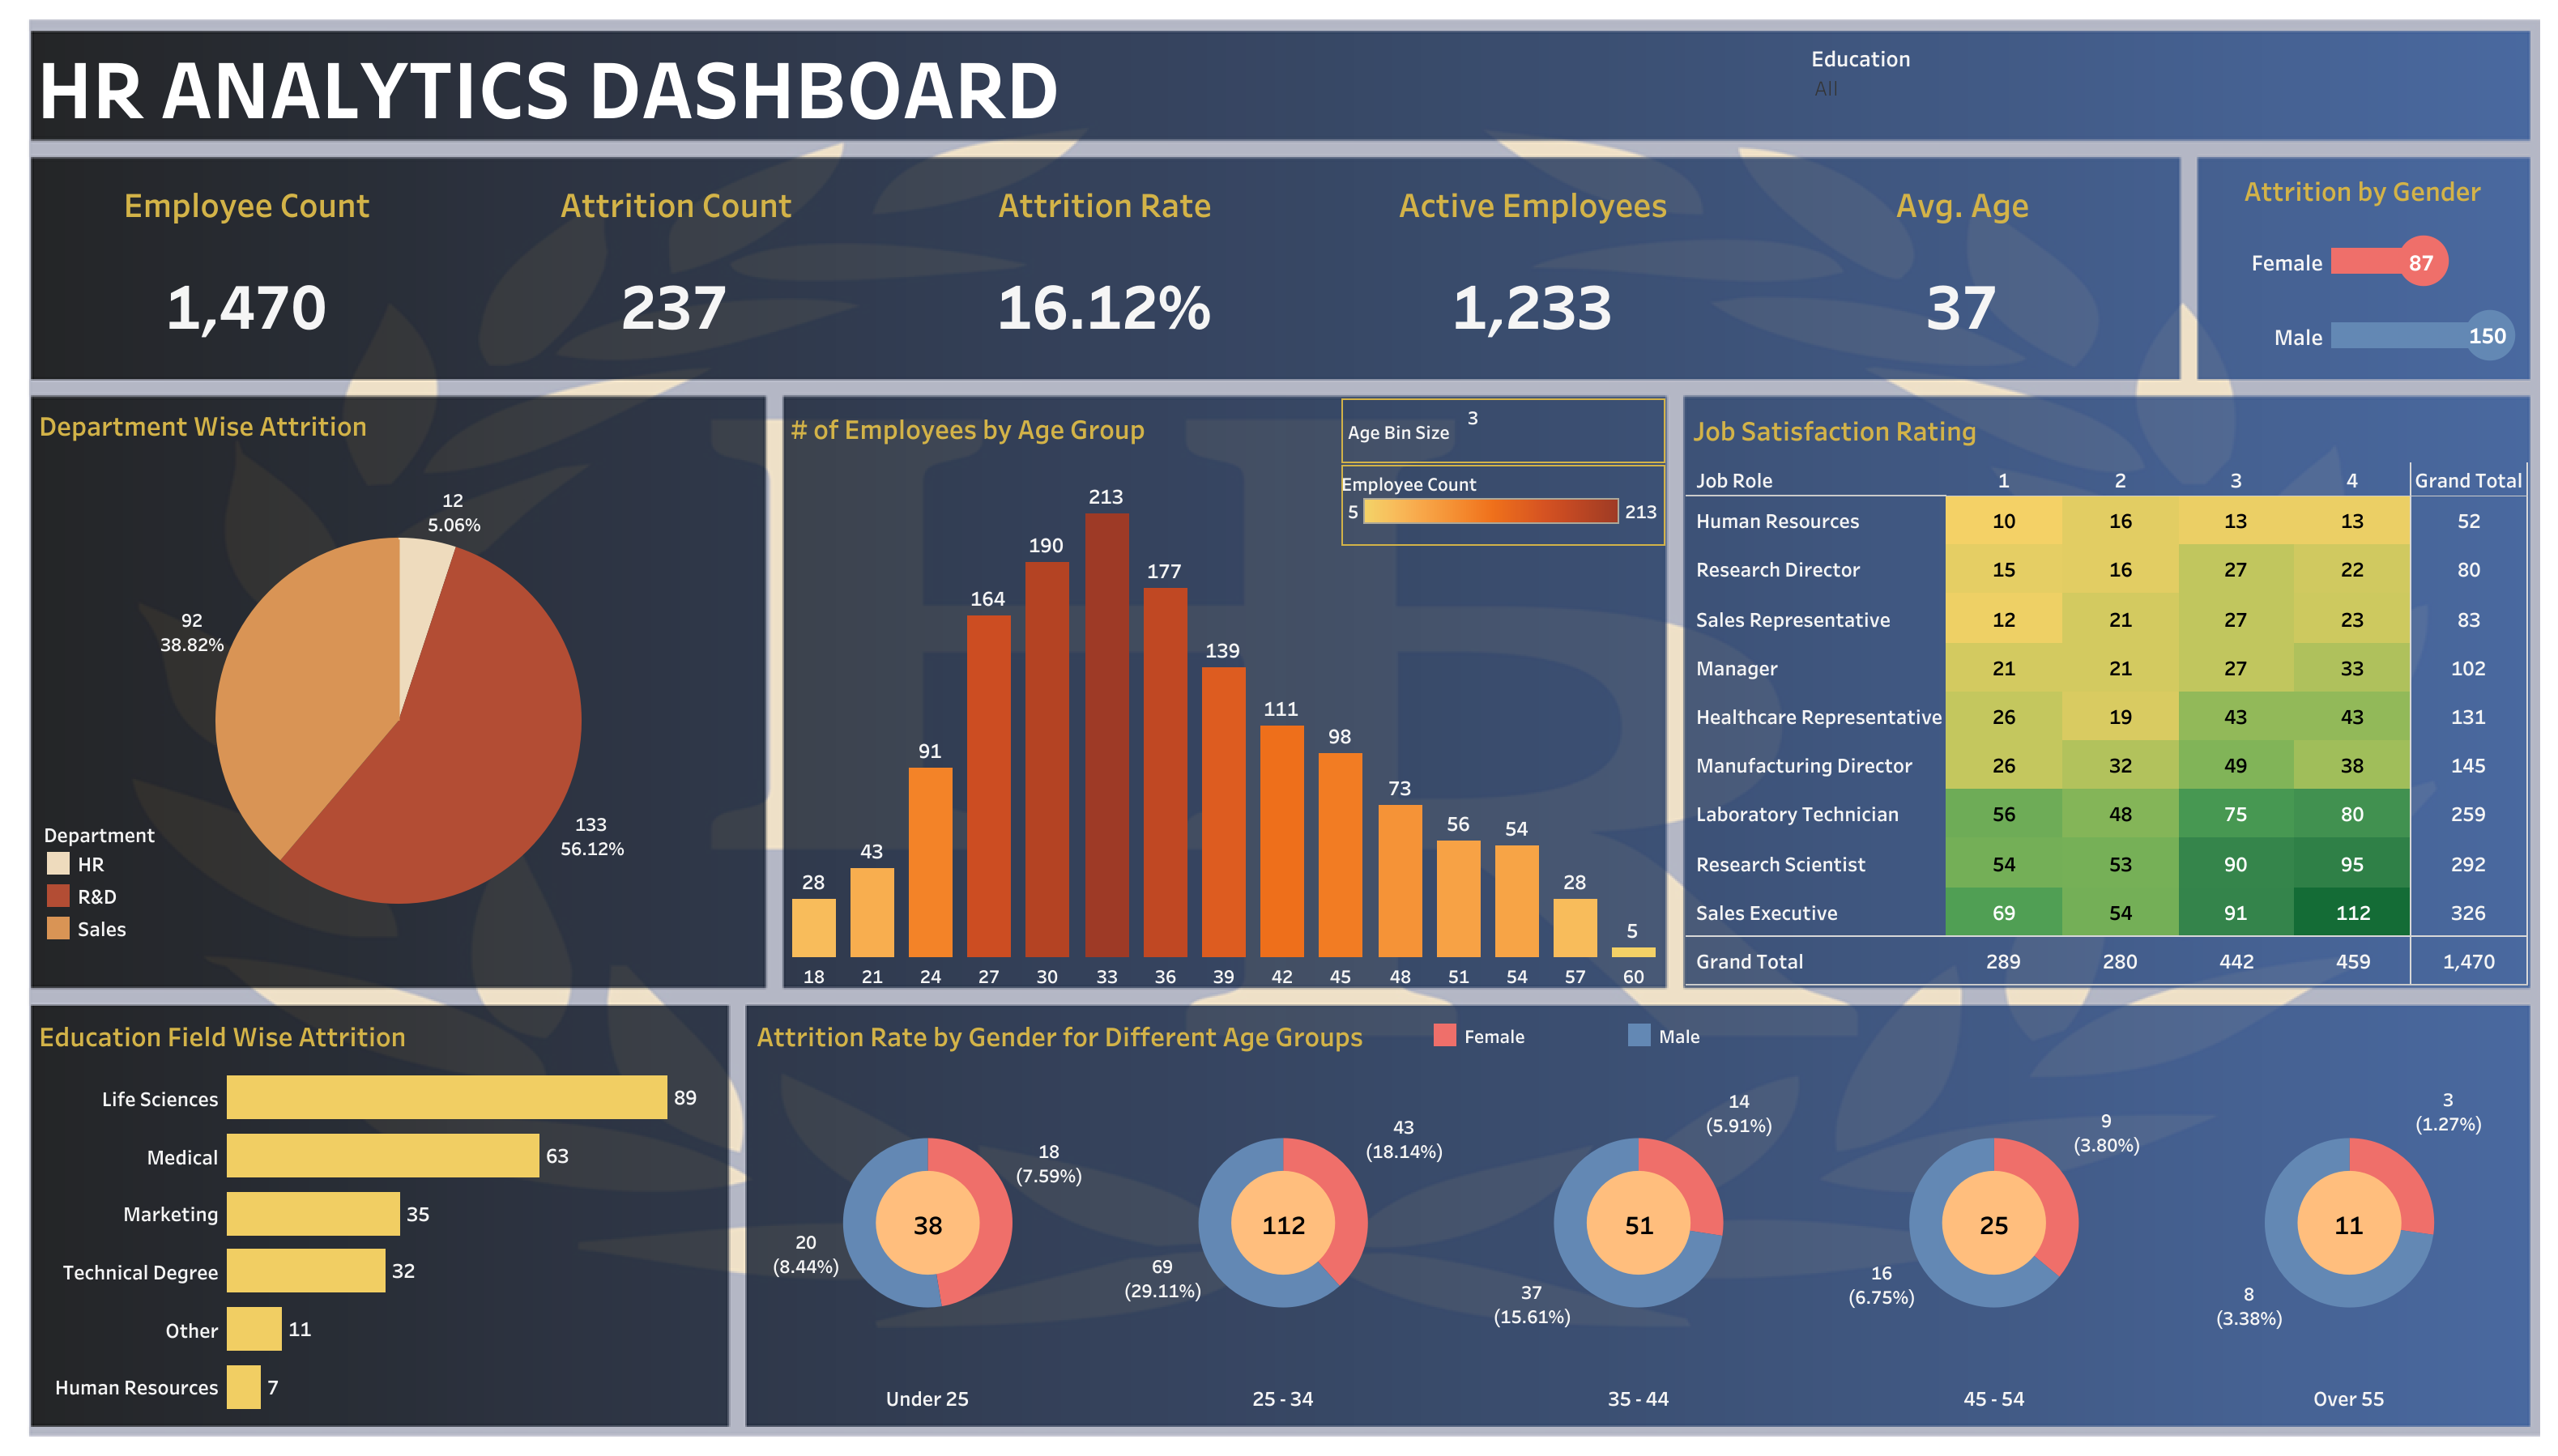

Layout of this report page (visuals, bound fields, positions):
{"tool":"powerbi","page":{"name":"HR Analytics Dashboard","canvas":[1280,720],"ordinal":0},"visuals":[{"type":"card","title":"Overall Employees","fields":{"Values":["Sum(HR data.Employee Count)"]},"box":[8.3,61.5,239.9,99.1],"z":0},{"type":"card","title":"Attrition ","fields":{"Values":["Sum(HR data.Attrition Count)"]},"box":[264.9,61.5,239.9,100.1],"z":1000},{"type":"card","title":"Attrition Rate","fields":{"Values":["HR data.Attrition Rate"]},"box":[520.4,61.5,240.9,99.1],"z":2000},{"type":"card","title":"Active Employees","fields":{"Values":["HR data.Active employees"]},"box":[778,61.5,239.9,100.1],"z":3000},{"type":"card","title":"Average Age","fields":{"Values":["Avg(HR data.Age)"]},"box":[1031.4,61.5,239.9,100.1],"z":4000},{"type":"pieChart","title":"Department Wise Employee Attrition","fields":{"Category":["HR data.Department"],"Y":["Sum(HR data.Attrition Count)"]},"box":[8.4,175.8,370.2,272.1],"z":5000},{"type":"columnChart","title":"# of Employees by Age Group","fields":{"Category":["HR data.CF_age band"],"Y":["Sum(HR data.Employee Count)"],"Series":["HR data.Gender"]},"box":[407.6,175.8,370.2,272.1],"z":6000},{"type":"pivotTable","title":"Job Satisfaction Rating","fields":{"Rows":["HR data.Job Role"],"Columns":["HR data.Job Satisfaction"],"Values":["Sum(HR data.Employee Count)"]},"box":[809.6,175.8,461.8,272.1],"z":7000},{"type":"barChart","title":"Education Field Wise Employee Attrition","fields":{"Category":["HR data.Education Field"],"Y":["Sum(HR data.Attrition Count)"]},"box":[9.3,461.8,369.3,244.9],"z":8000},{"type":"donutChart","title":"Under 25","fields":{"Category":["HR data.Gender"],"Y":["Sum(HR data.Attrition Count)"],"Series":["HR data.CF_age band"]},"box":[395.5,502,174.8,204.7],"z":9000},{"type":"textbox","title":"Attrition Rate by Gender for Different Age Groups","box":[395.5,461.8,874.1,32.7],"z":10000},{"type":"donutChart","title":"25-34","fields":{"Category":["HR data.Gender"],"Y":["Sum(HR data.Attrition Count)"],"Series":["HR data.CF_age band"]},"box":[570.3,502,174.8,204.7],"z":11000},{"type":"donutChart","title":"35-44","fields":{"Category":["HR data.Gender"],"Y":["Sum(HR data.Attrition Count)"],"Series":["HR data.CF_age band"]},"box":[745.1,503,174.8,204.7],"z":12000},{"type":"donutChart","title":"45-54","fields":{"Category":["HR data.Gender"],"Y":["Sum(HR data.Attrition Count)"],"Series":["HR data.CF_age band"]},"box":[919.9,503,174.8,204.7],"z":13000},{"type":"donutChart","title":"Over 55","fields":{"Category":["HR data.Gender"],"Y":["Sum(HR data.Attrition Count)"],"Series":["HR data.CF_age band"]},"box":[1094.8,502,174.8,204.7],"z":14000},{"type":"card","fields":{"Values":["Sum(HR data.Attrition Count)"]},"box":[459,597.4,45.8,33.7],"z":15000},{"type":"card","fields":{"Values":["Sum(HR data.Attrition Count)"]},"box":[628.8,597.5,57.4,33.4],"z":16000},{"type":"card","fields":{"Values":["Sum(HR data.Attrition Count)"]},"box":[806.1,597.5,53.2,33.4],"z":17000},{"type":"card","fields":{"Values":["Sum(HR data.Attrition Count)"]},"box":[985.4,597.4,45.8,33.7],"z":18000},{"type":"card","fields":{"Values":["Sum(HR data.Attrition Count)"]},"box":[1160.2,597.4,45.8,33.7],"z":19000},{"type":"textbox","box":[9.4,4.2,324.3,53.2],"z":20000},{"type":"slicer","fields":{"Values":["HR data.Education"]},"box":[358.7,4.2,911.4,53],"z":21000}]}

Visuals, with their boxes in screenshot pixels (x1, y1, x2, y2), scaled from the page's 1280x720 canvas onto the 2558x1456 screenshot:
"Overall Employees" card: detection(16, 125, 496, 325)
"Attrition " card: detection(530, 125, 1008, 327)
"Attrition Rate" card: detection(1040, 125, 1521, 325)
"Active Employees" card: detection(1554, 125, 2034, 327)
"Average Age" card: detection(2061, 125, 2541, 327)
"Department Wise Employee Attrition" pieChart: detection(17, 355, 757, 906)
"# of Employees by Age Group" columnChart: detection(815, 355, 1554, 906)
"Job Satisfaction Rating" pivotTable: detection(1618, 355, 2541, 906)
"Education Field Wise Employee Attrition" barChart: detection(19, 934, 757, 1429)
"Under 25" donutChart: detection(791, 1015, 1140, 1429)
"Attrition Rate by Gender for Different Age Groups" textbox: detection(791, 934, 2537, 1000)
"25-34" donutChart: detection(1140, 1015, 1489, 1429)
"35-44" donutChart: detection(1489, 1017, 1839, 1431)
"45-54" donutChart: detection(1839, 1017, 2188, 1431)
"Over 55" donutChart: detection(2188, 1015, 2537, 1429)
card - Sum(HR data.Attrition Count): detection(917, 1208, 1008, 1276)
card - Sum(HR data.Attrition Count): detection(1256, 1208, 1371, 1275)
card - Sum(HR data.Attrition Count): detection(1611, 1208, 1717, 1275)
card - Sum(HR data.Attrition Count): detection(1969, 1208, 2061, 1276)
card - Sum(HR data.Attrition Count): detection(2318, 1208, 2410, 1276)
textbox: detection(19, 8, 667, 116)
slicer - HR data.Education: detection(717, 8, 2539, 116)
